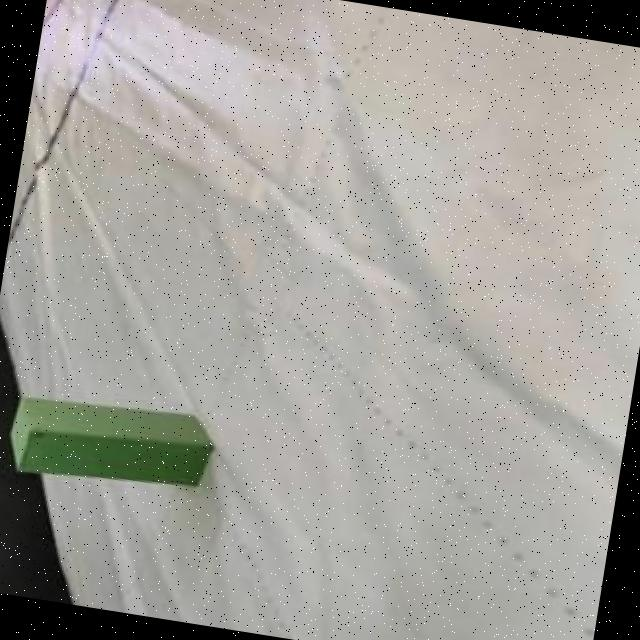greenbox: (1, 386, 219, 499)
